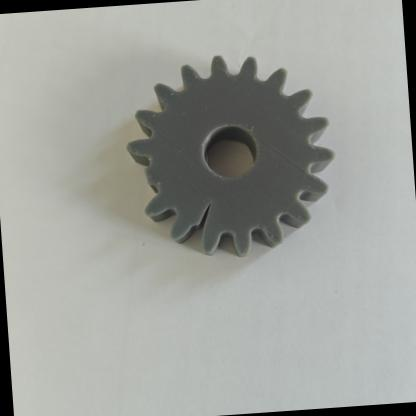defect: (160, 193, 236, 264), (116, 136, 178, 218)
gear: (84, 32, 369, 290)
